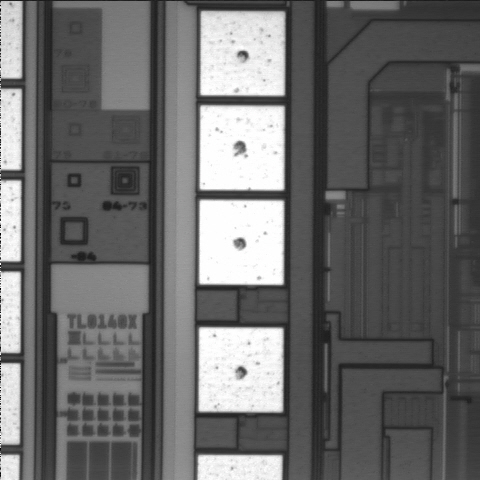pad: (200, 11, 285, 96), (199, 200, 284, 285), (200, 105, 284, 190), (199, 327, 283, 412)
